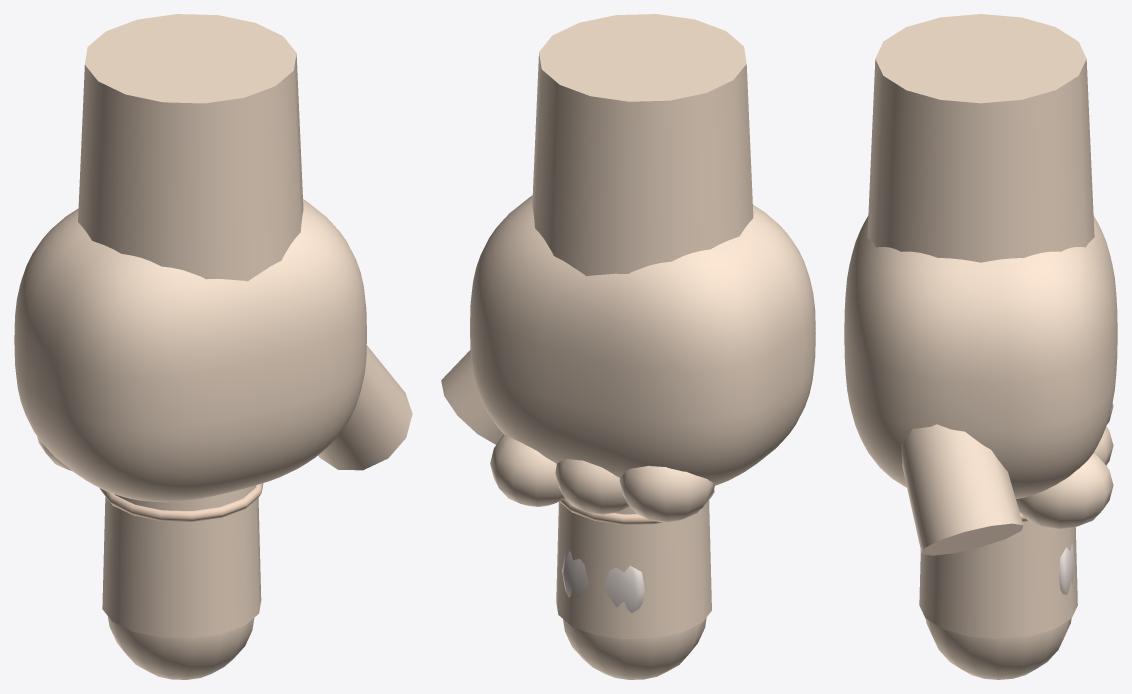
File: hand_finger_pointer.glb
3 renders of one model, left to right at view 1: azimuth 30°, elevation 25°; view 2: azimuth 150°, elevation 25°; view 3: azimuth 270°, elevation 25°, orthographic.
Visible parts, largest first — view 1: hand_finger_pointer; view 2: hand_finger_pointer; view 3: hand_finger_pointer.
Part boxes in pixels (left/top/right/bottom): hand_finger_pointer: left=14, top=14, right=412, bottom=679; hand_finger_pointer: left=441, top=14, right=815, bottom=679; hand_finger_pointer: left=844, top=14, right=1117, bottom=679.
Size of the model in its own units: 0.9257 by 1.54 by 0.621.
